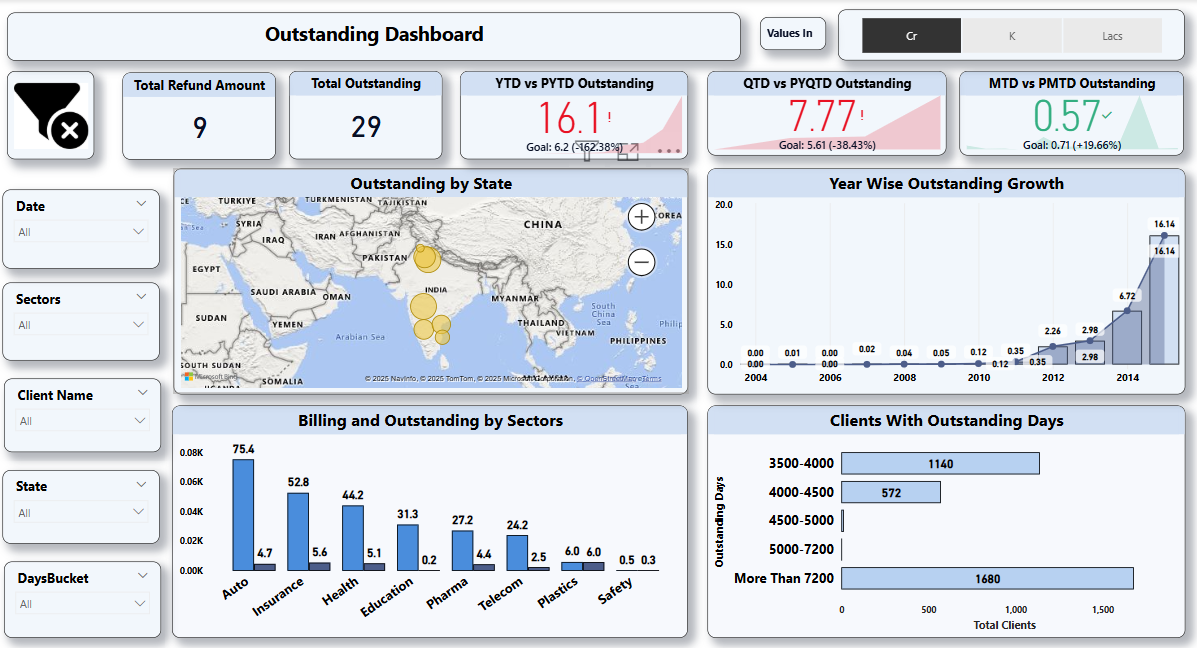

This screenshot's page, from the dashboard's own definition file:
{"tool":"powerbi","page":{"name":"Outstanding","canvas":[1500,800],"ordinal":1},"visuals":[{"type":"textbox","box":[22.1,16.6,902.6,59.1],"z":0},{"type":"card","title":"Total Outstanding","fields":{"Values":["Currency_Conversion.CurrencySwitchOutstanding"]},"box":[368.6,89.3,188.4,108.8],"z":1000},{"type":"card","title":"Total Refund Amount","fields":{"Values":["Currency_Conversion.CurrencySwitchCreditNote"]},"box":[164,90.9,188.4,107.2],"z":2000},{"type":"slicer","fields":{"Values":["Outstanding Table.Sectors"]},"box":[17.5,349.7,193.2,95.8],"z":3000},{"type":"slicer","fields":{"Values":["Outstanding Table.State"]},"box":[17.5,578.7,193.2,90.9],"z":4000},{"type":"barChart","title":"Clients With Outstanding Days","fields":{"Category":["Outstanding Table.OutstandingDayBucket"],"Y":["Count(Outstanding Table.Client Name)"]},"box":[883.4,500.1,587.8,285.8],"z":5000},{"type":"slicer","fields":{"Values":["Calendar.Date"]},"box":[17.5,234.4,193.2,97.4],"z":6000},{"type":"slicer","fields":{"Values":["Credit Note.Client Name"]},"box":[17.9,467.7,193.2,90.9],"z":7000},{"type":"slicer","fields":{"Values":["Outstanding Table.OutstandingDayBucket"]},"box":[17.9,691.8,193.2,94.2],"z":8000},{"type":"lineStackedColumnComboChart","title":"Year Wise Outstanding Growth","fields":{"Category":["Calendar.Year"],"Y":["Currency_Conversion.CurrencySwitchOutstanding"],"Y2":["Currency_Conversion.CurrencySwitchOutstanding"]},"box":[883.4,207.9,587.8,277.7],"z":9000},{"type":"clusteredColumnChart","title":"Billing and Outstanding by Sectors","fields":{"Category":["Invoices Table.Sectors"],"Y":["Currency_Conversion.CurrencySwitch","Currency_Conversion.CurrencySwitchOutstanding"]},"box":[225.7,500.1,634.9,285.8],"z":10000},{"type":"map","title":"Outstanding by State","fields":{"Category":["Outstanding Table.State"],"Size":["Currency_Conversion.CurrencySwitchOutstanding"]},"box":[227.3,207.9,633.3,277.7],"z":11000},{"type":"image","box":[22.7,89.3,107.2,108.8],"z":12000},{"type":"kpi","title":"MTD vs PMTD Outstanding","fields":{"Indicator":["Outstanding Table.TotalMTD"],"Goal":["Outstanding Table.PMTD"],"TrendLine":["Calendar.Month"]},"box":[1195.2,89.3,276.1,103.9],"z":13000},{"type":"kpi","title":"YTD vs PYTD Outstanding","fields":{"Indicator":["Outstanding Table.TotalYTD"],"Goal":["Outstanding Table.PYTD"],"TrendLine":["Calendar.Year"]},"box":[579.7,89.3,280.9,108.8],"z":14000},{"type":"kpi","title":"QTD vs PYQTD Outstanding","fields":{"Indicator":["Outstanding Table.TotalQTD"],"Goal":["Outstanding Table.PYQTD"],"TrendLine":["Calendar.Quarter"]},"box":[883.4,89.3,293.9,103.9],"z":15000},{"type":"slicer","fields":{"Values":["Currency_Conversion.Currency"]},"box":[1044.7,12.9,426.4,62.8],"z":16000},{"type":"textbox","box":[948.7,22.1,81.2,40.6],"z":17000}]}

Visuals, with their boxes in screenshot pixels (x1, y1, x2, y2), scaled from the page's 1500x800 canvas onto the 1197x648 screenshot:
textbox: locate(18, 13, 738, 61)
"Total Outstanding" card: locate(294, 72, 444, 160)
"Total Refund Amount" card: locate(131, 74, 281, 160)
slicer - Outstanding Table.Sectors: locate(14, 283, 168, 361)
slicer - Outstanding Table.State: locate(14, 469, 168, 542)
"Clients With Outstanding Days" barChart: locate(705, 405, 1174, 637)
slicer - Calendar.Date: locate(14, 190, 168, 269)
slicer - Credit Note.Client Name: locate(14, 379, 168, 452)
slicer - Outstanding Table.OutstandingDayBucket: locate(14, 560, 168, 637)
"Year Wise Outstanding Growth" lineStackedColumnComboChart: locate(705, 168, 1174, 393)
"Billing and Outstanding by Sectors" clusteredColumnChart: locate(180, 405, 687, 637)
"Outstanding by State" map: locate(181, 168, 687, 393)
image: locate(18, 72, 104, 160)
"MTD vs PMTD Outstanding" kpi: locate(954, 72, 1174, 156)
"YTD vs PYTD Outstanding" kpi: locate(463, 72, 687, 160)
"QTD vs PYQTD Outstanding" kpi: locate(705, 72, 939, 156)
slicer - Currency_Conversion.Currency: locate(834, 10, 1174, 61)
textbox: locate(757, 18, 822, 51)
